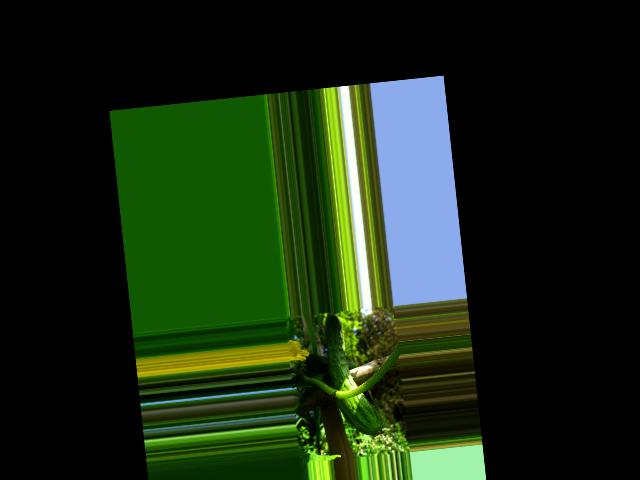cucumber: (322, 308, 382, 439)
